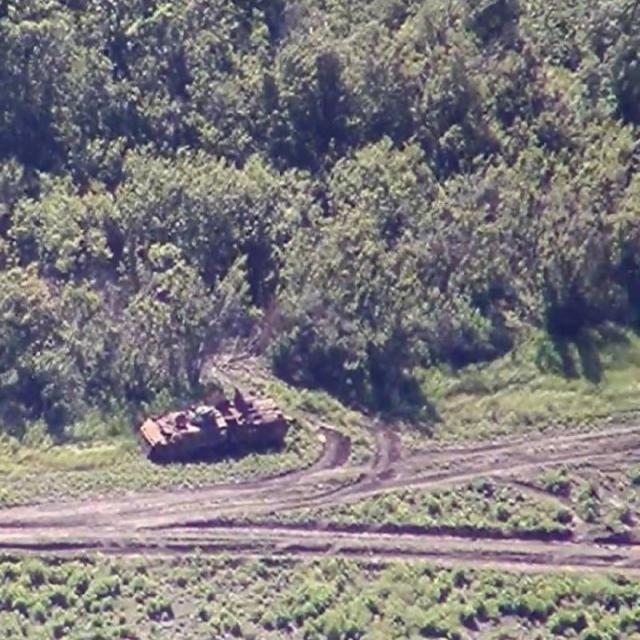Destroyed: (141, 391, 293, 461)
